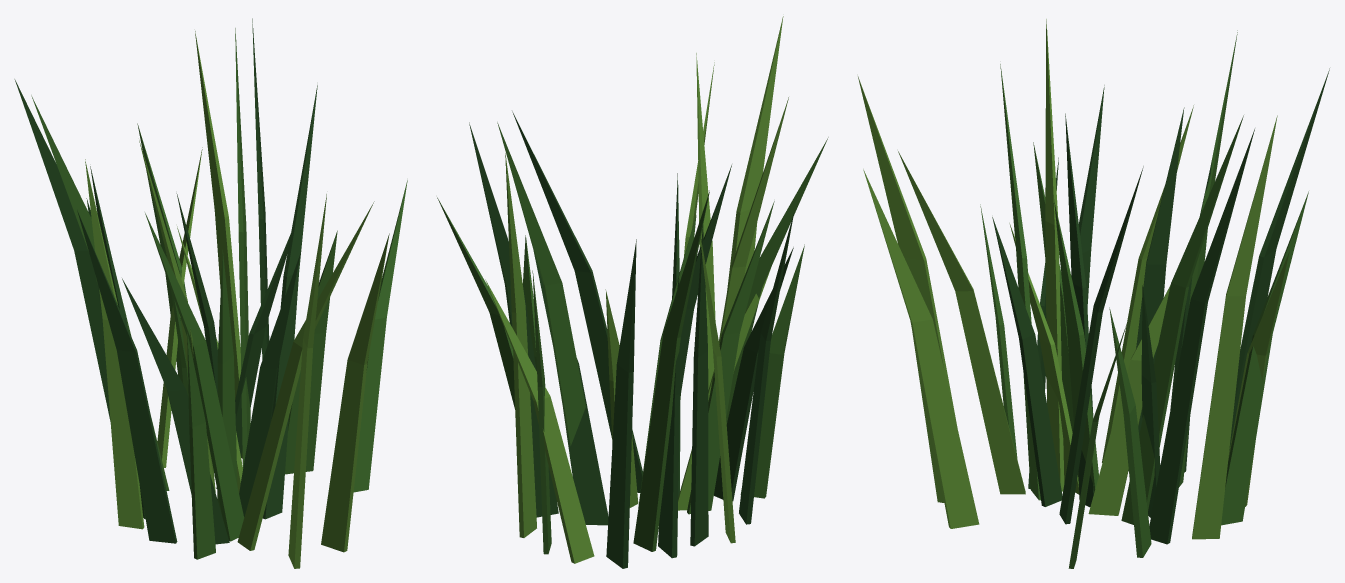
The model's file is grass_tuft_d.glb.
The picture shows the model from 3 angles, left to right: view 1: azimuth 30°, elevation 25°; view 2: azimuth 150°, elevation 25°; view 3: azimuth 270°, elevation 25°; orthographic projection. The views are drawn at different scales.
Visible parts, largest first — view 1: Tuft_1.003, Tuft_3.003, Tuft_2.003; view 2: Tuft_1.003, Tuft_2.003, Tuft_3.003; view 3: Tuft_3.003, Tuft_1.003, Tuft_2.003.
Boxes of the visible parts, box(x1,y1,x2,y2) form: Tuft_1.003: box(14, 18, 317, 544); Tuft_3.003: box(85, 31, 389, 568); Tuft_2.003: box(31, 28, 407, 559); Tuft_1.003: box(469, 111, 794, 568); Tuft_2.003: box(437, 122, 828, 554); Tuft_3.003: box(485, 16, 788, 563); Tuft_3.003: box(858, 19, 1289, 539); Tuft_1.003: box(992, 68, 1329, 544); Tuft_2.003: box(980, 30, 1308, 568).
Bounding box in the file's own units: 0.9565 × 1.12 × 1.11.
